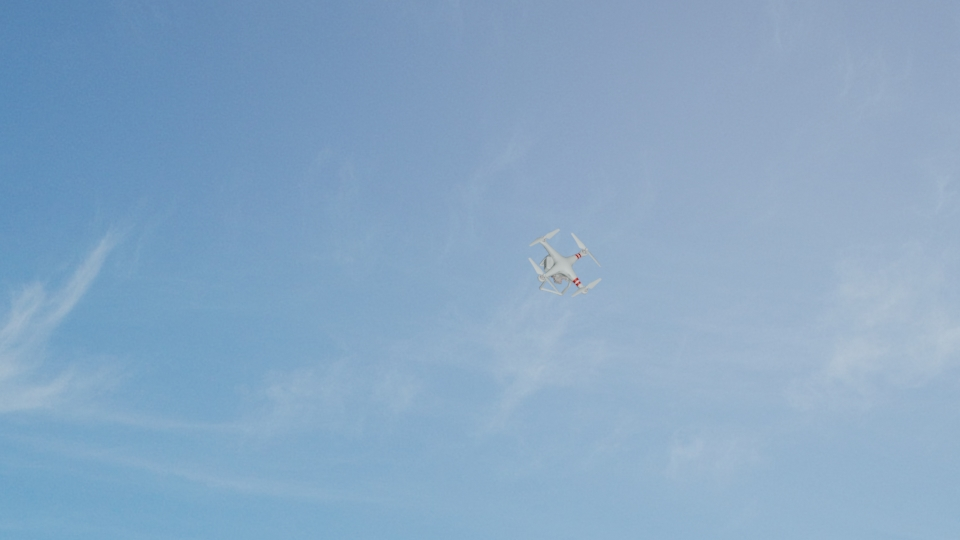drone: (528, 227, 598, 298)
